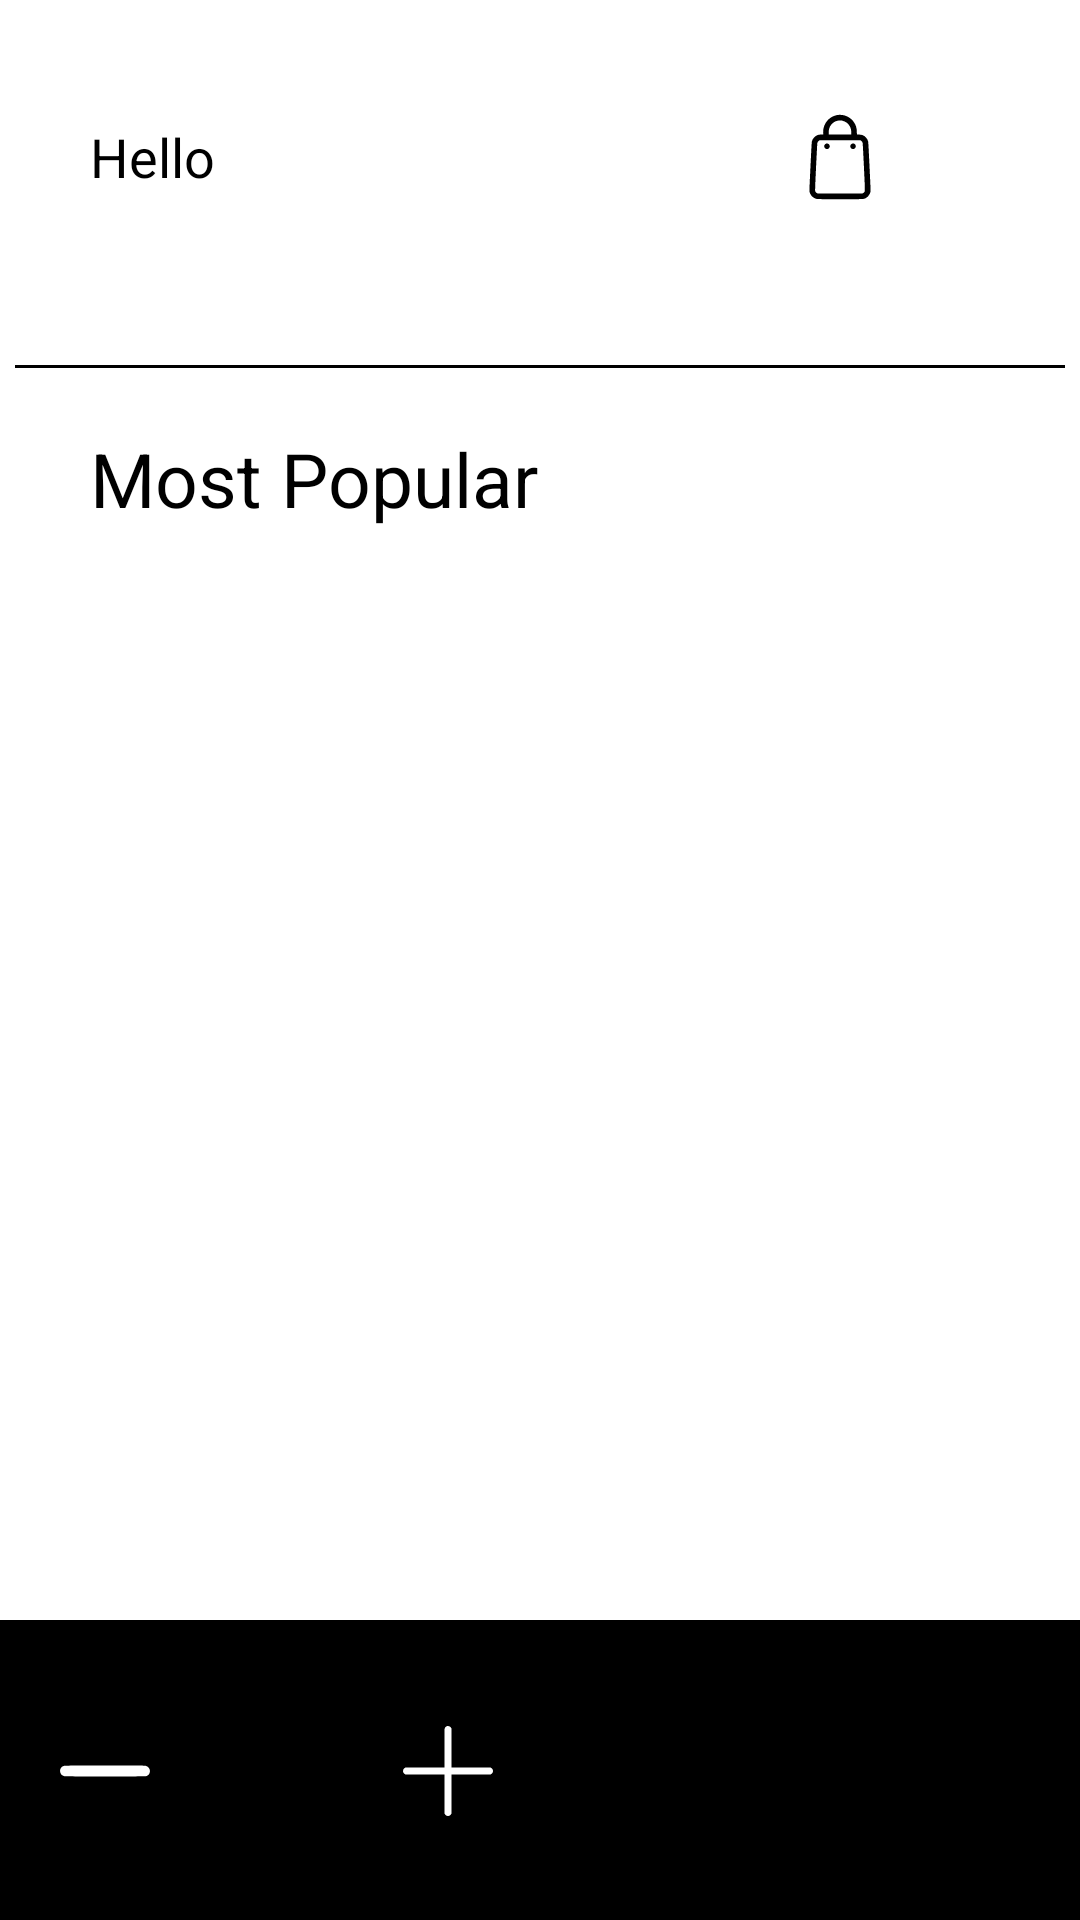

Named icons in this screenshot (1080x1920) and their bounding boxes, (x1=x1, y1=y1, x2=x2, y2=y2):
cart: (x1=809, y1=114, x2=871, y2=200)
plus: (x1=403, y1=1726, x2=493, y2=1816)
